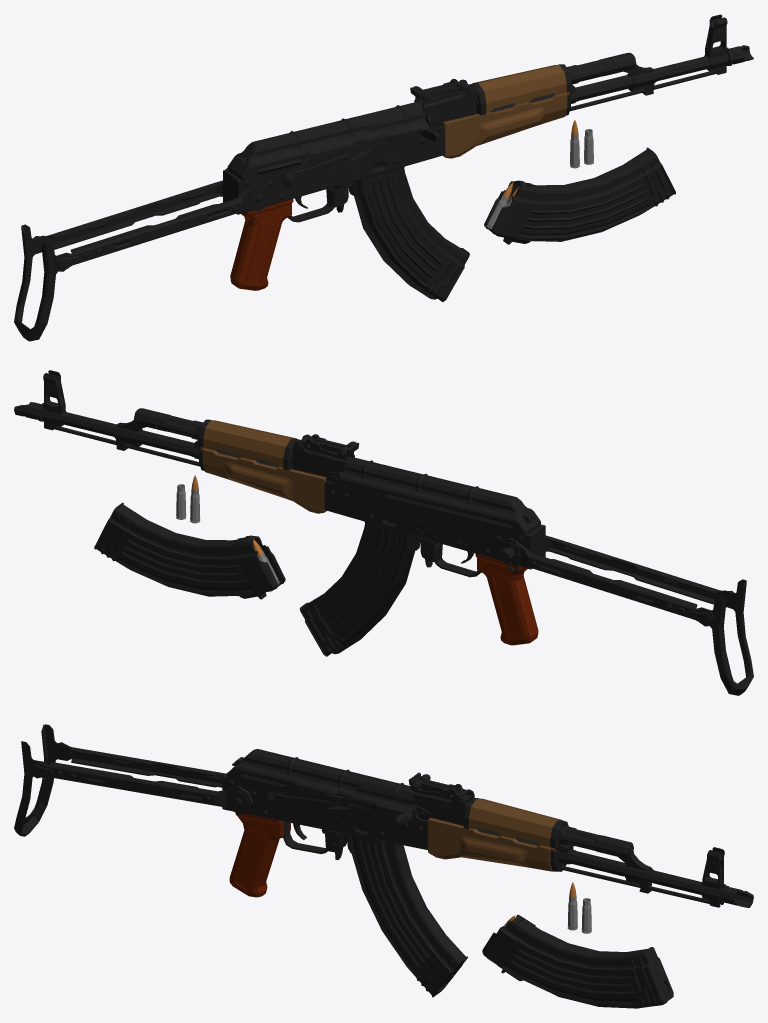
File: low-poly_akms.glb
The picture shows the model from 3 angles, top to bottom: view 1: azimuth 30°, elevation 25°; view 2: azimuth 150°, elevation 25°; view 3: azimuth 330°, elevation 25°; orthographic projection.
Visible parts, largest first — view 1: ak 30rnd steel mag_13, akms receiver_16, ak 30rnd empty steel mag_12, akms stock base_14, akms handguard_5, akms dust cover_6, akms barrel_8, akms grip_2, akms stock butt_15, akms bolt_7, akms selector_1; view 2: akms receiver_16, ak 30rnd steel mag_13, ak 30rnd empty steel mag_12, akms dust cover_6, akms stock base_14, akms handguard_5, akms barrel_8, akms grip_2, akms stock butt_15; view 3: ak 30rnd steel mag_13, akms receiver_16, ak 30rnd empty steel mag_12, akms handguard_5, akms stock base_14, akms barrel_8, akms dust cover_6, akms grip_2, akms stock butt_15, akms bolt_7, akms selector_1, akms compensator_3.
Boxes of the visible parts, x1,y1,x2,y2 form: ak 30rnd steel mag_13: (484,147,675,244); akms receiver_16: (223,58,613,222); ak 30rnd empty steel mag_12: (348,166,469,301); akms stock base_14: (33,168,271,271); akms handguard_5: (443,65,569,158); akms dust cover_6: (227,101,423,180); akms barrel_8: (443,14,729,122); akms grip_2: (230,199,293,290); akms stock butt_15: (14,224,70,341); akms bolt_7: (354,65,614,146); akms selector_1: (280,141,371,187); akms receiver_16: (156,413,545,577); ak 30rnd steel mag_13: (94,502,285,599); ak 30rnd empty steel mag_12: (299,521,420,656); akms dust cover_6: (339,457,540,535); akms stock base_14: (497,535,734,626); akms handguard_5: (200,420,326,513); akms barrel_8: (41,370,325,477); akms grip_2: (475,554,538,645); akms stock butt_15: (698,579,753,695); ak 30rnd steel mag_13: (482,914,673,1008); akms receiver_16: (222,757,610,854); ak 30rnd empty steel mag_12: (346,834,467,997); akms handguard_5: (428,798,562,871); akms stock base_14: (28,742,253,814); akms barrel_8: (433,818,737,907); akms dust cover_6: (227,749,422,798); akms grip_2: (229,813,290,897); akms stock butt_15: (14,724,72,836); akms bolt_7: (339,786,605,846); akms selector_1: (263,786,350,810); akms compensator_3: (719,885,753,907).
Size of the model in its own units: 9.18 by 2.56 by 0.7569.
